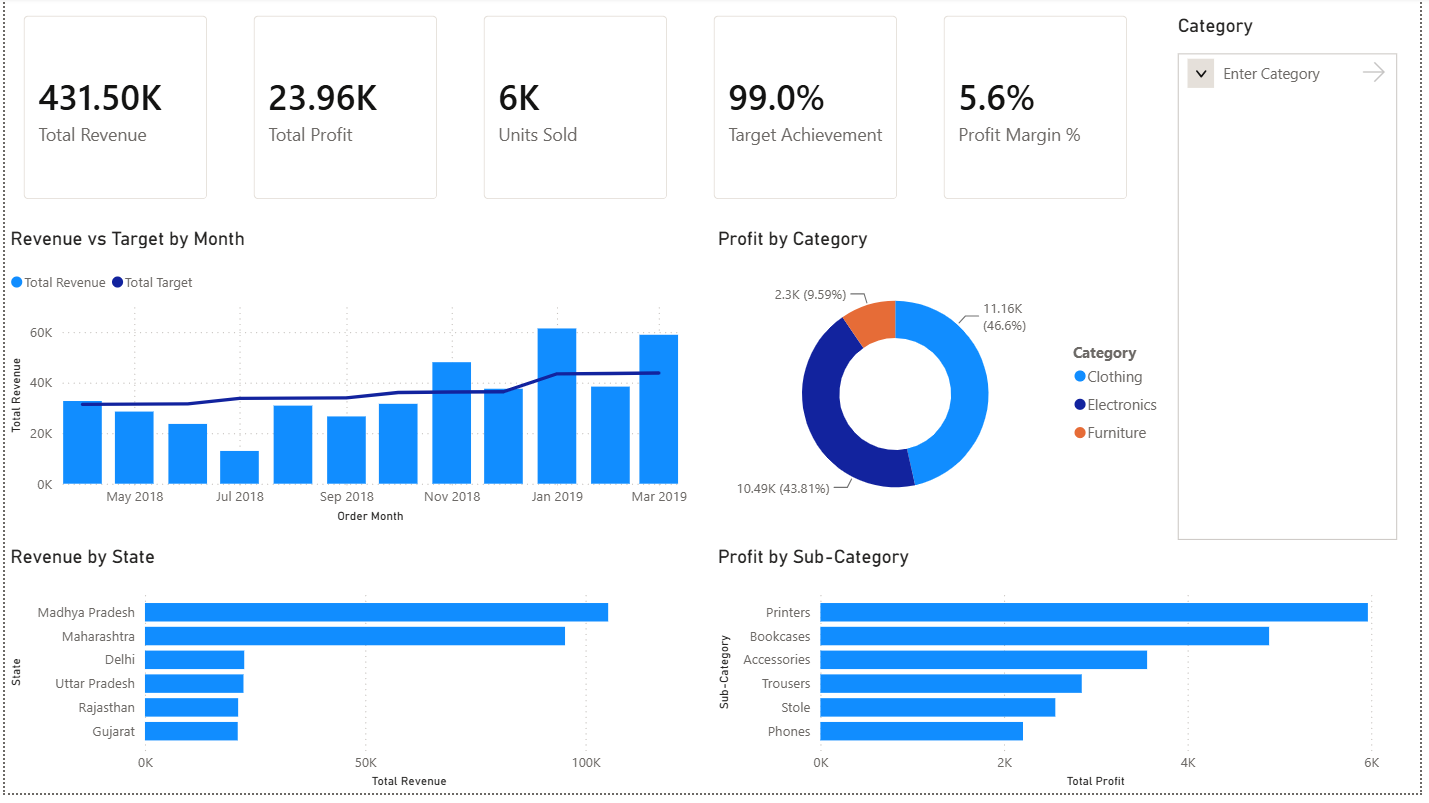

This screenshot's page, from the dashboard's own definition file:
{"tool":"powerbi","page":{"name":"Page 1","canvas":[1280,720],"ordinal":0},"visuals":[{"type":"lineStackedColumnComboChart","title":"Revenue vs Target by Month","fields":{"Y":["Sum(sales.Amount)"],"Y2":["Sum(sales_target.Target)"],"Category":["sales_target.Month of Order Date"]},"box":[0,208,608,272],"z":0},{"type":"clusteredBarChart","title":"Revenue by State","fields":{"Category":["sales.State"],"Y":["Sum(sales.Amount)"]},"box":[0,496,608,224],"z":1000},{"type":"donutChart","title":"Profit by Category","fields":{"Category":["sales.Category"],"Y":["Sum(sales.Profit)"]},"box":[608,208,304,272],"z":2000},{"type":"clusteredBarChart","title":"Profit by Sub-Category","fields":{"Category":["sales.Sub-Category"],"Y":["Sum(sales.Profit)"]},"box":[640,496,624,208],"z":3000},{"type":"cardVisual","fields":{"Data":["Sum(sales.Amount)"]},"box":[0,0,200,200],"z":4000},{"type":"cardVisual","fields":{"Data":["Sum(sales.Profit)"]},"box":[208,0,200,200],"z":5000},{"type":"cardVisual","fields":{"Data":["Sum(sales.Quantity)"]},"box":[416,0,200,200],"z":6000},{"type":"textSlicer","fields":{"Values":["sales.Category"]},"box":[1056,16,208,352],"z":7000},{"type":"cardVisual","fields":{"Data":["sales.Target Achievement %"]},"box":[624,0,200,200],"z":7001},{"type":"cardVisual","fields":{"Data":["sales.Profit Margin %"]},"box":[832,0,200,200],"z":7002}]}

Visuals, with their boxes in screenshot pixels (x1, y1, x2, y2), scaled from the page's 1280x720 canvas onto the 1429x803 screenshot:
"Revenue vs Target by Month" lineStackedColumnComboChart: (x1=0, y1=232, x2=679, y2=535)
"Revenue by State" clusteredBarChart: (x1=0, y1=553, x2=679, y2=802)
"Profit by Category" donutChart: (x1=679, y1=232, x2=1018, y2=535)
"Profit by Sub-Category" clusteredBarChart: (x1=714, y1=553, x2=1411, y2=785)
cardVisual - Sum(sales.Amount): (x1=0, y1=0, x2=223, y2=223)
cardVisual - Sum(sales.Profit): (x1=232, y1=0, x2=455, y2=223)
cardVisual - Sum(sales.Quantity): (x1=464, y1=0, x2=688, y2=223)
textSlicer - sales.Category: (x1=1179, y1=18, x2=1411, y2=410)
cardVisual - sales.Target Achievement %: (x1=697, y1=0, x2=920, y2=223)
cardVisual - sales.Profit Margin %: (x1=929, y1=0, x2=1152, y2=223)
